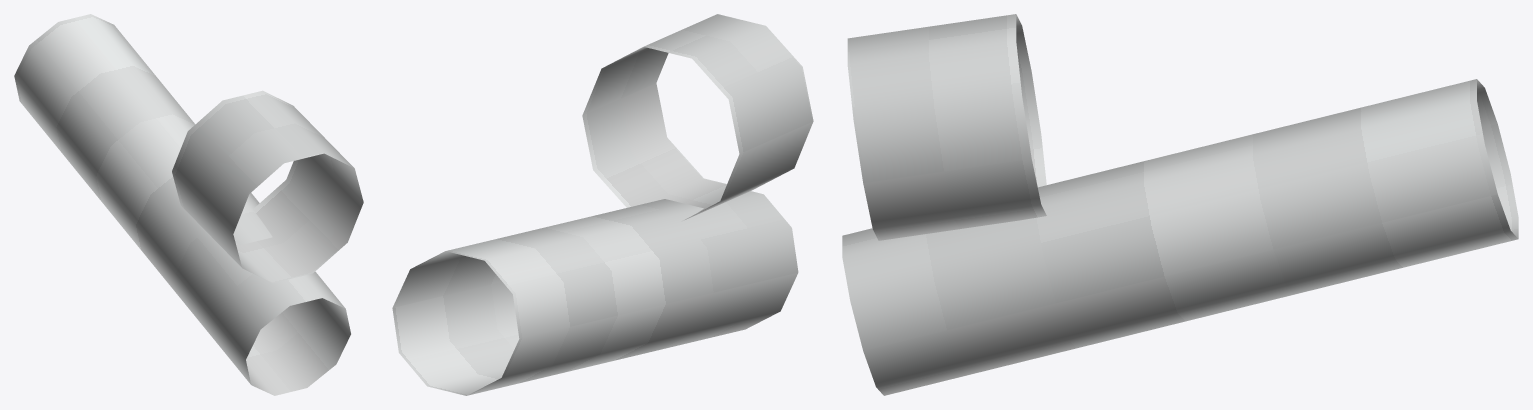
The model's file is trusssignalarm_sloped12_c16.obj.
3 renders of one model, left to right at view 1: azimuth 30°, elevation 25°; view 2: azimuth 150°, elevation 25°; view 3: azimuth 270°, elevation 25°, orthographic. The views are drawn at different scales.
Parts seen in each view (by area): view 1: trusssignalarm_sloped12_c16; view 2: trusssignalarm_sloped12_c16; view 3: trusssignalarm_sloped12_c16.
Part boxes in pixels (bbox=[...]): trusssignalarm_sloped12_c16: bbox=[14, 14, 363, 395]; trusssignalarm_sloped12_c16: bbox=[392, 14, 813, 395]; trusssignalarm_sloped12_c16: bbox=[842, 14, 1518, 395].
Size of the model in its own units: 0.325 by 0.6218 by 1.07.
